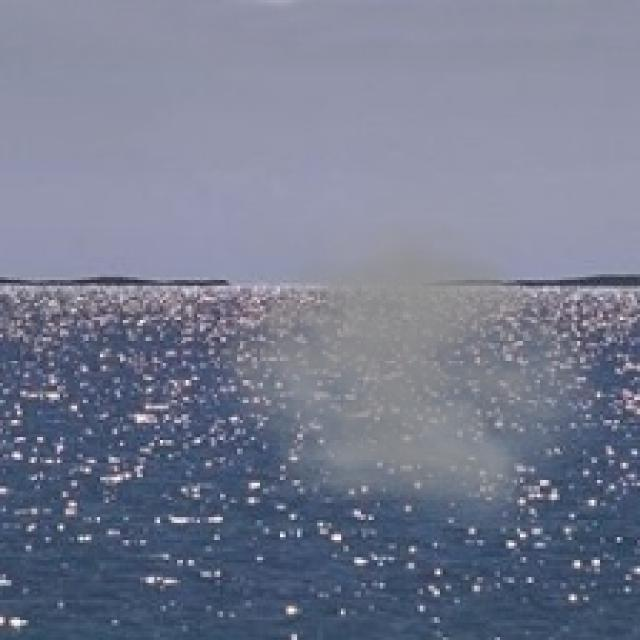smoke: (197, 180, 620, 529)
